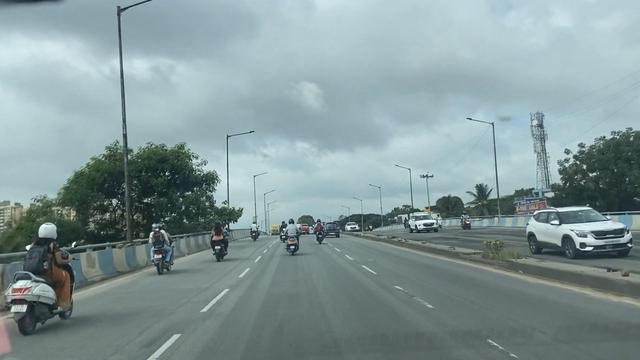LMV: (13, 225, 65, 335), (149, 222, 175, 272), (211, 220, 230, 260), (285, 219, 298, 258), (311, 219, 324, 243), (326, 220, 338, 242), (251, 220, 260, 241)
